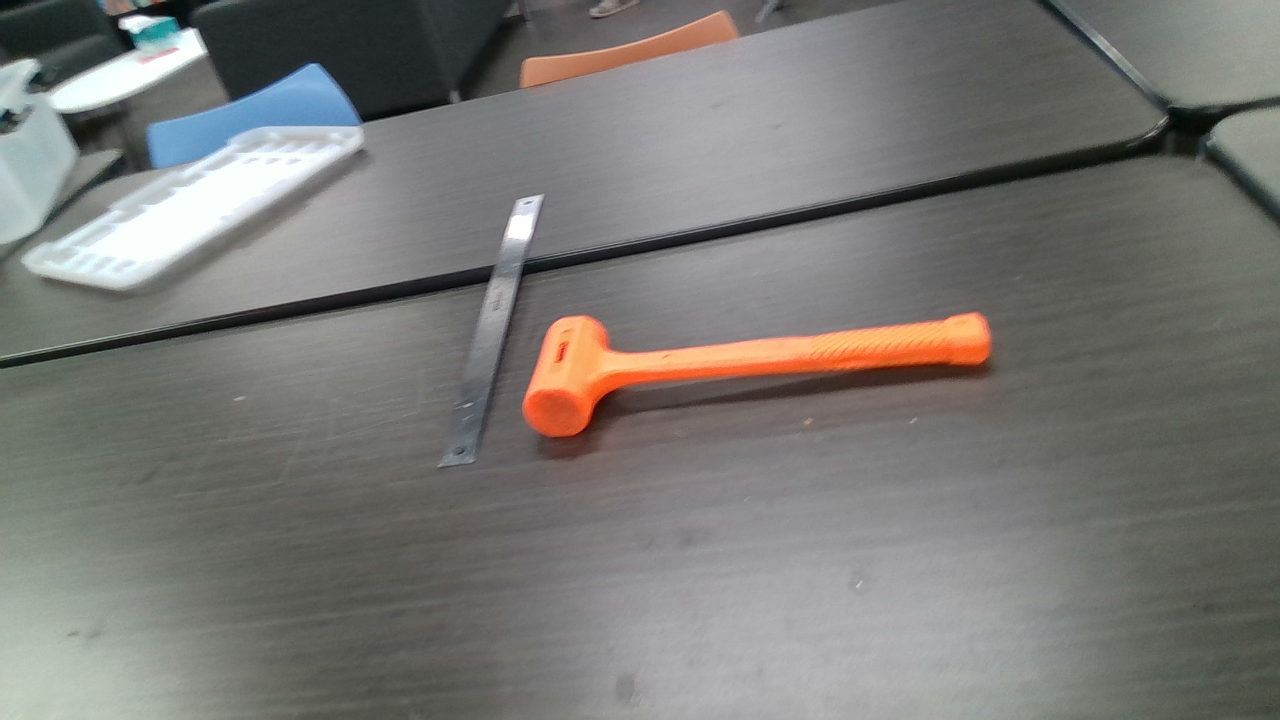Orange Hammer: (527, 311, 991, 437)
